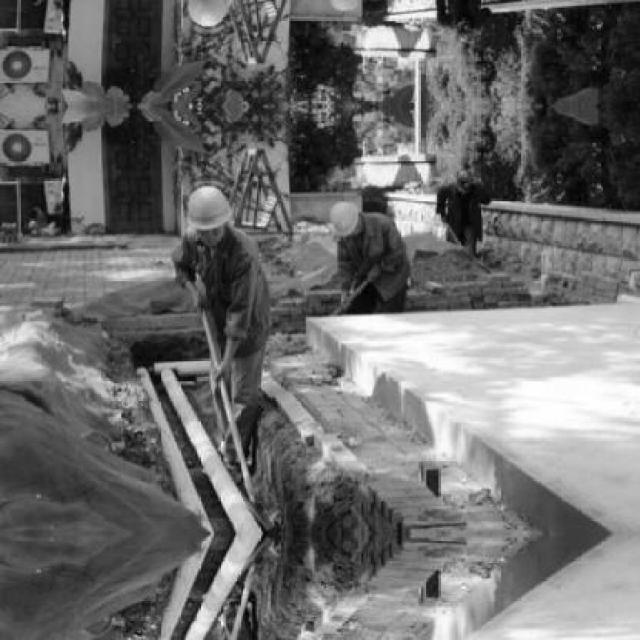hat: (185, 179, 233, 243), (183, 0, 232, 35), (322, 199, 359, 236), (453, 168, 479, 197), (453, 17, 479, 46), (321, 0, 360, 15)
